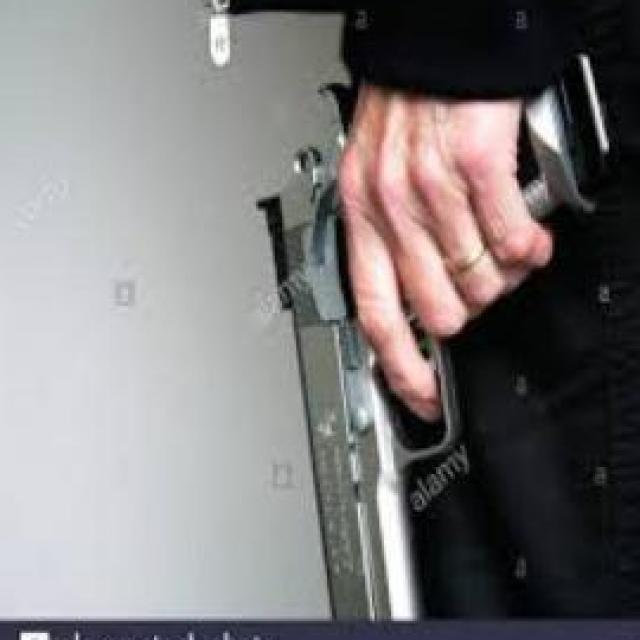pistol: (265, 48, 620, 615)
